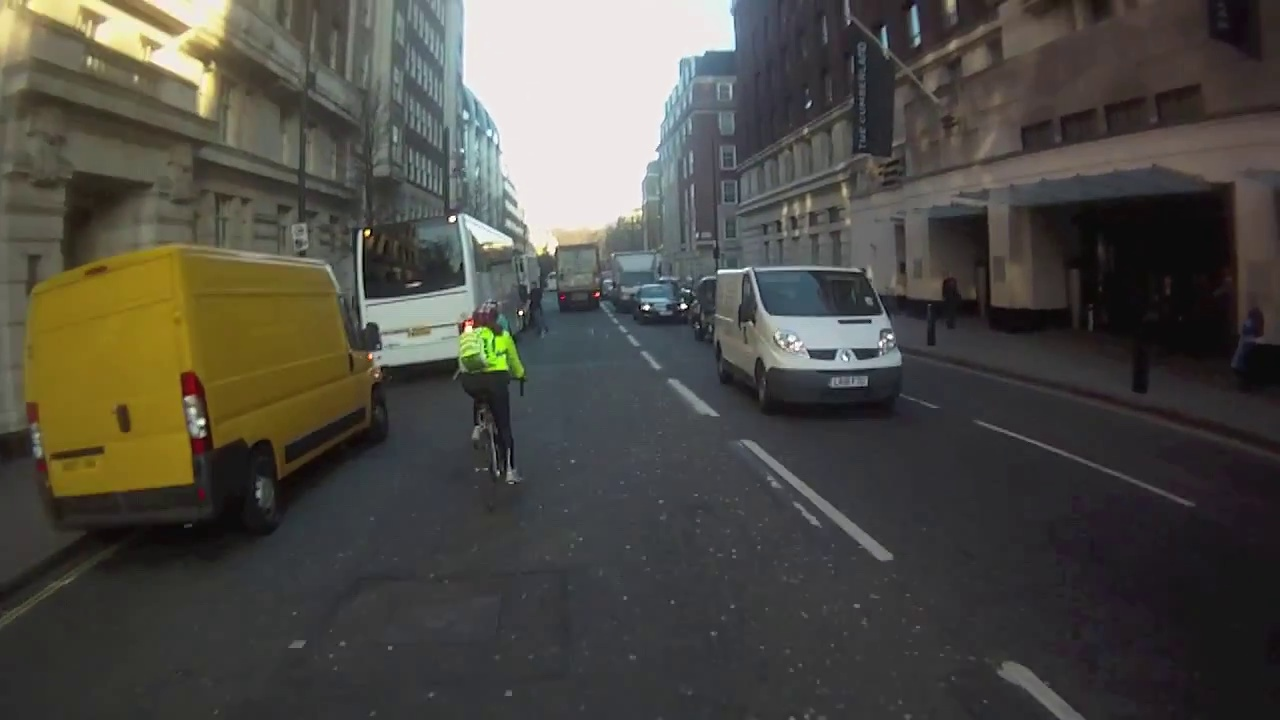cyclist_back: (452, 294, 535, 494)
